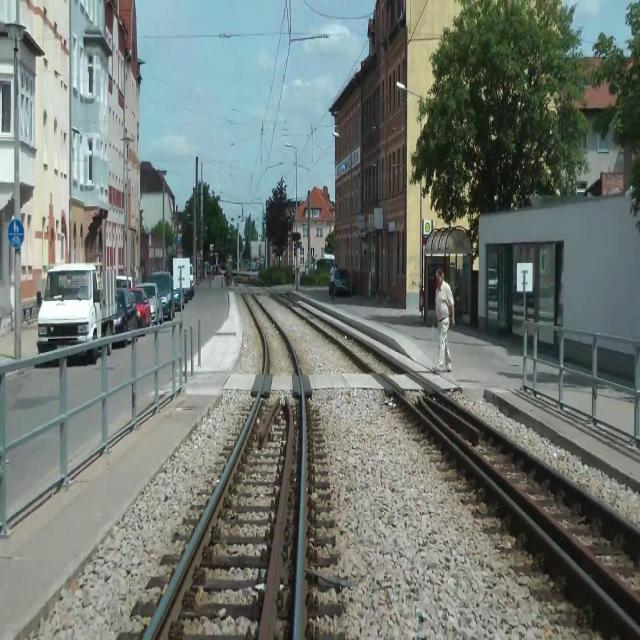rail: (108, 285, 375, 640)
